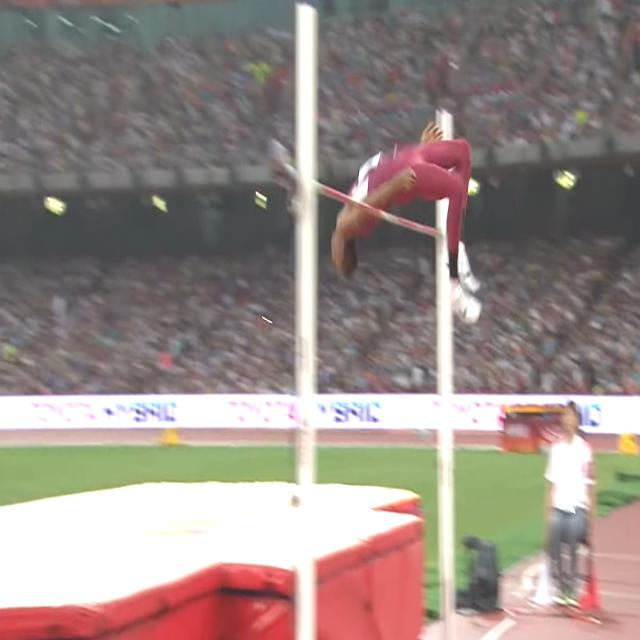jump: (332, 123, 482, 326)
